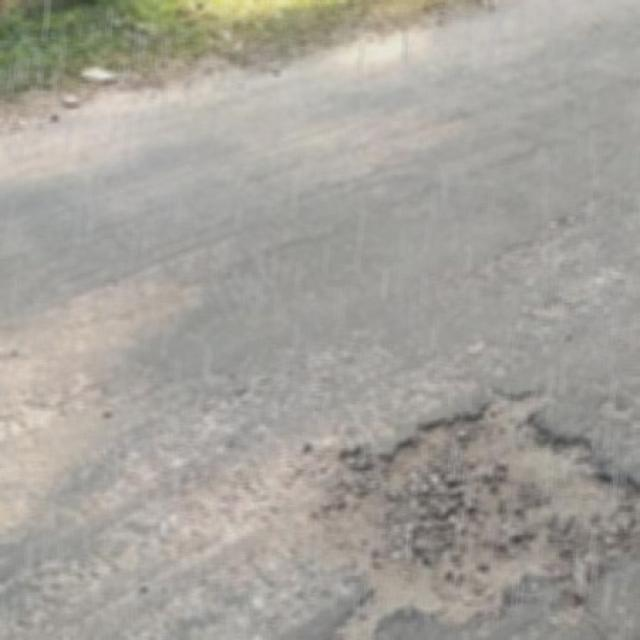road-pothole: (299, 388, 639, 639)
